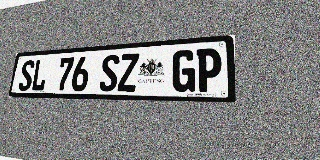6: (71, 56, 91, 91)
7: (55, 57, 74, 91)
G: (171, 49, 196, 92)
L: (31, 59, 49, 91)
P: (196, 48, 221, 92)
S: (99, 54, 120, 91), (18, 60, 35, 91)
Z: (117, 53, 139, 92)
